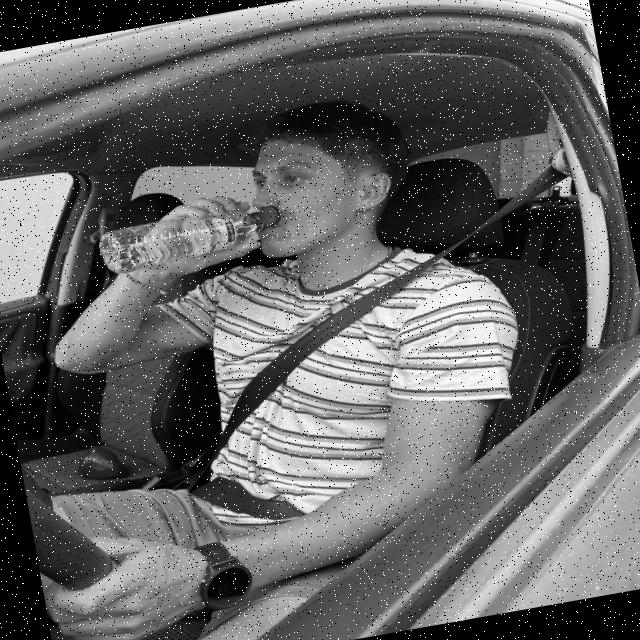Drinking: (92, 196, 290, 281)
Seatbelt: (134, 133, 616, 538)
